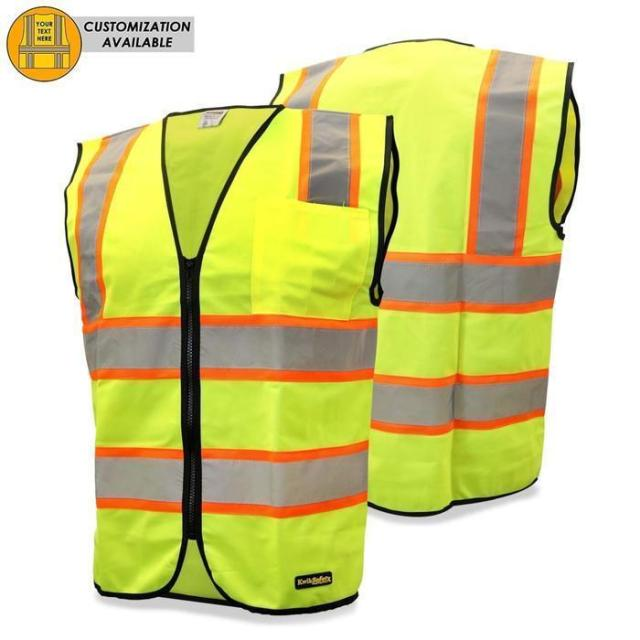Vest: (66, 104, 398, 616), (268, 39, 581, 518)
